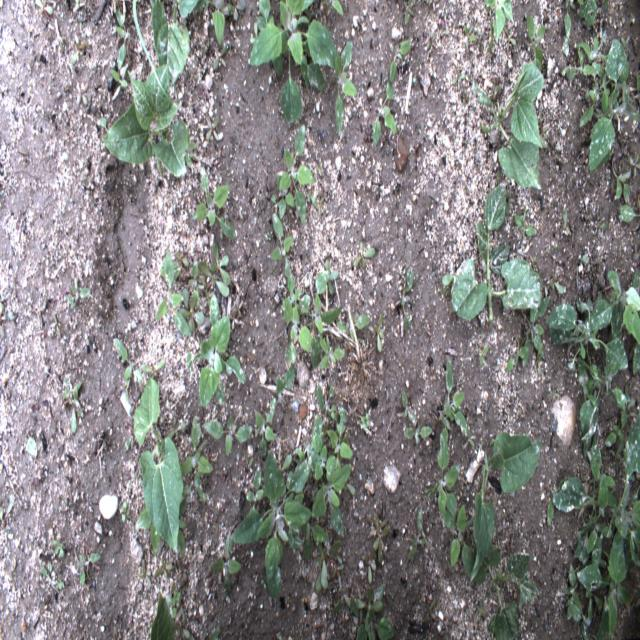crop: (449, 180, 542, 321), (132, 378, 193, 557), (469, 432, 541, 582), (101, 63, 189, 180), (472, 60, 546, 192), (468, 540, 537, 639), (152, 0, 200, 87), (148, 589, 182, 639), (482, 0, 514, 53)
weed: (231, 453, 312, 600), (248, 0, 339, 124), (331, 512, 396, 640), (579, 39, 639, 170), (186, 293, 245, 408), (546, 292, 630, 372), (552, 426, 601, 554), (576, 526, 631, 638), (595, 412, 640, 540), (576, 357, 632, 459), (132, 0, 180, 110), (179, 241, 231, 335), (276, 121, 316, 228), (587, 268, 639, 348), (304, 268, 344, 370), (573, 484, 620, 567), (428, 360, 470, 448), (191, 165, 237, 242), (153, 254, 192, 339), (180, 415, 214, 505), (312, 462, 353, 536), (282, 272, 314, 364), (427, 438, 458, 528), (520, 292, 552, 368), (334, 40, 358, 138), (210, 527, 242, 596), (255, 0, 284, 76), (204, 414, 252, 459), (306, 432, 344, 488), (326, 406, 353, 484), (369, 78, 398, 150), (112, 335, 153, 385), (310, 382, 338, 454), (580, 472, 609, 532), (314, 537, 344, 594), (253, 397, 278, 460), (522, 11, 545, 79), (271, 210, 294, 277), (614, 512, 639, 573), (450, 505, 472, 574), (542, 476, 572, 525), (296, 518, 330, 559), (60, 377, 84, 435), (196, 0, 227, 44), (52, 277, 90, 312), (114, 6, 134, 71), (561, 562, 582, 621), (74, 548, 102, 591), (607, 152, 631, 202), (37, 561, 68, 599), (405, 507, 427, 560), (600, 407, 628, 448), (388, 38, 411, 85), (275, 359, 297, 408), (334, 311, 370, 340), (563, 49, 595, 80), (400, 268, 415, 334), (246, 466, 264, 521), (575, 36, 613, 62), (631, 269, 640, 375), (276, 175, 297, 220), (164, 580, 186, 622), (506, 331, 528, 372), (318, 339, 346, 371), (188, 257, 205, 309), (108, 61, 129, 102), (512, 206, 536, 240), (570, 600, 591, 638), (599, 546, 617, 590), (352, 240, 377, 270), (319, 260, 339, 296), (400, 390, 418, 425), (591, 528, 605, 572), (585, 589, 604, 620), (609, 436, 624, 475), (203, 112, 221, 144), (372, 312, 385, 354), (184, 129, 198, 168), (403, 424, 433, 442), (70, 38, 89, 66), (140, 357, 166, 377), (274, 453, 292, 481), (166, 419, 186, 444), (449, 66, 468, 92), (47, 309, 63, 339), (564, 0, 576, 40), (578, 0, 597, 25), (34, 1, 54, 24), (617, 204, 640, 224), (531, 340, 543, 377), (226, 0, 246, 22), (154, 557, 173, 580), (422, 597, 437, 626), (320, 0, 344, 18), (211, 44, 228, 69), (75, 80, 90, 108), (548, 272, 565, 296), (139, 558, 152, 588), (464, 25, 477, 55), (402, 0, 415, 27), (52, 536, 66, 560), (476, 344, 490, 368), (627, 482, 639, 510), (628, 150, 640, 177), (561, 206, 571, 236), (228, 308, 240, 332), (120, 498, 131, 524), (358, 410, 371, 432), (232, 296, 244, 319), (503, 28, 517, 47), (249, 21, 259, 47), (174, 250, 189, 267), (491, 72, 502, 95), (474, 599, 485, 619), (426, 31, 437, 50), (207, 624, 220, 640), (314, 196, 324, 216), (123, 436, 132, 454), (440, 21, 450, 37), (182, 626, 194, 639), (546, 390, 560, 401), (462, 88, 470, 106), (596, 219, 607, 232), (308, 191, 316, 205), (357, 335, 366, 346), (388, 589, 395, 602), (318, 160, 323, 178), (266, 229, 272, 242), (411, 75, 418, 86)
